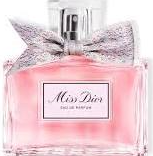dior_miss_dior: (1, 1, 150, 155)
